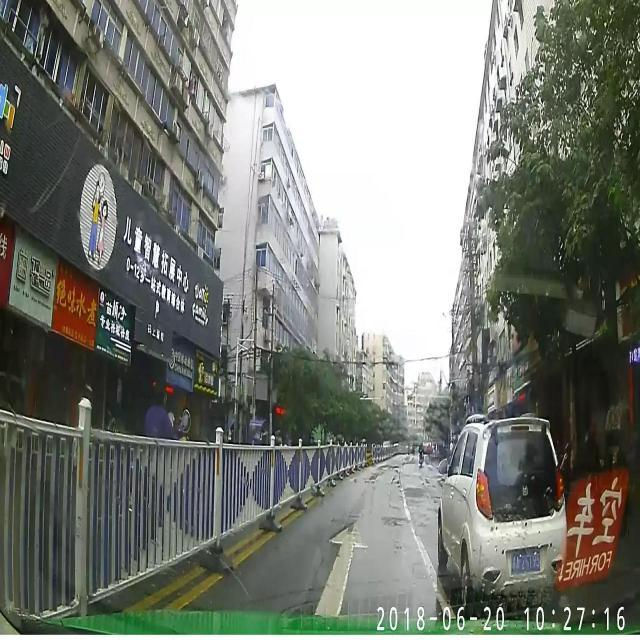car: (436, 414, 562, 606)
